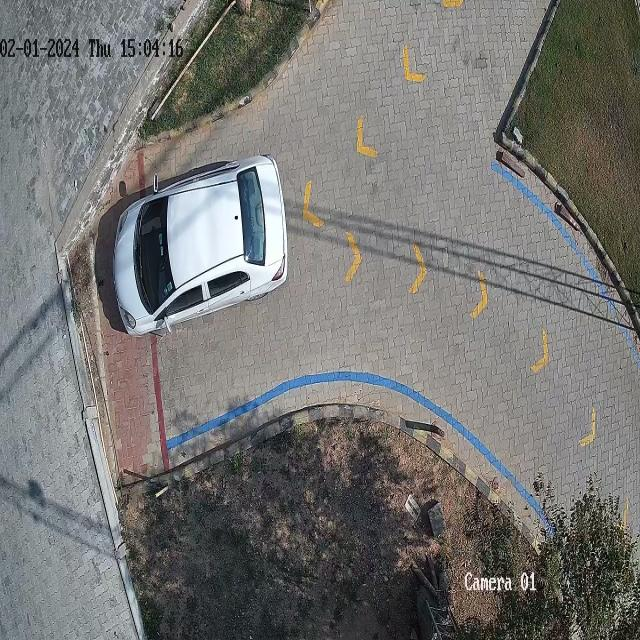car: (114, 156, 288, 336)
